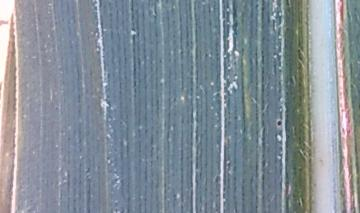tarspot: (275, 118, 283, 131)
